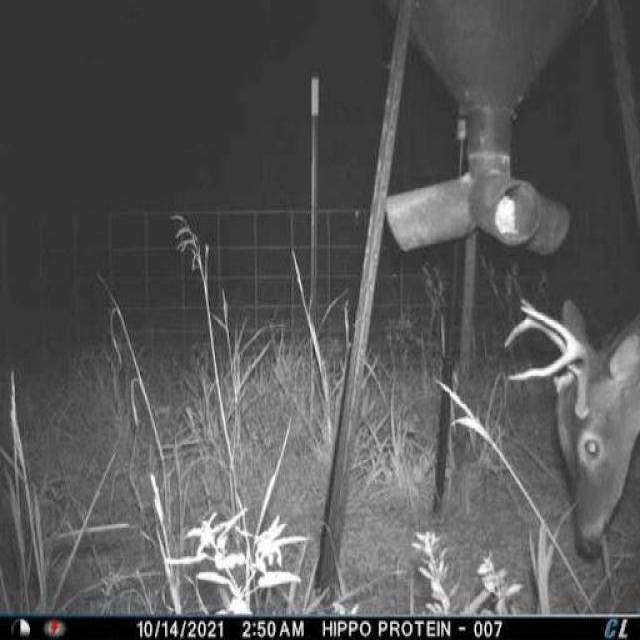deer: (494, 287, 640, 566)
